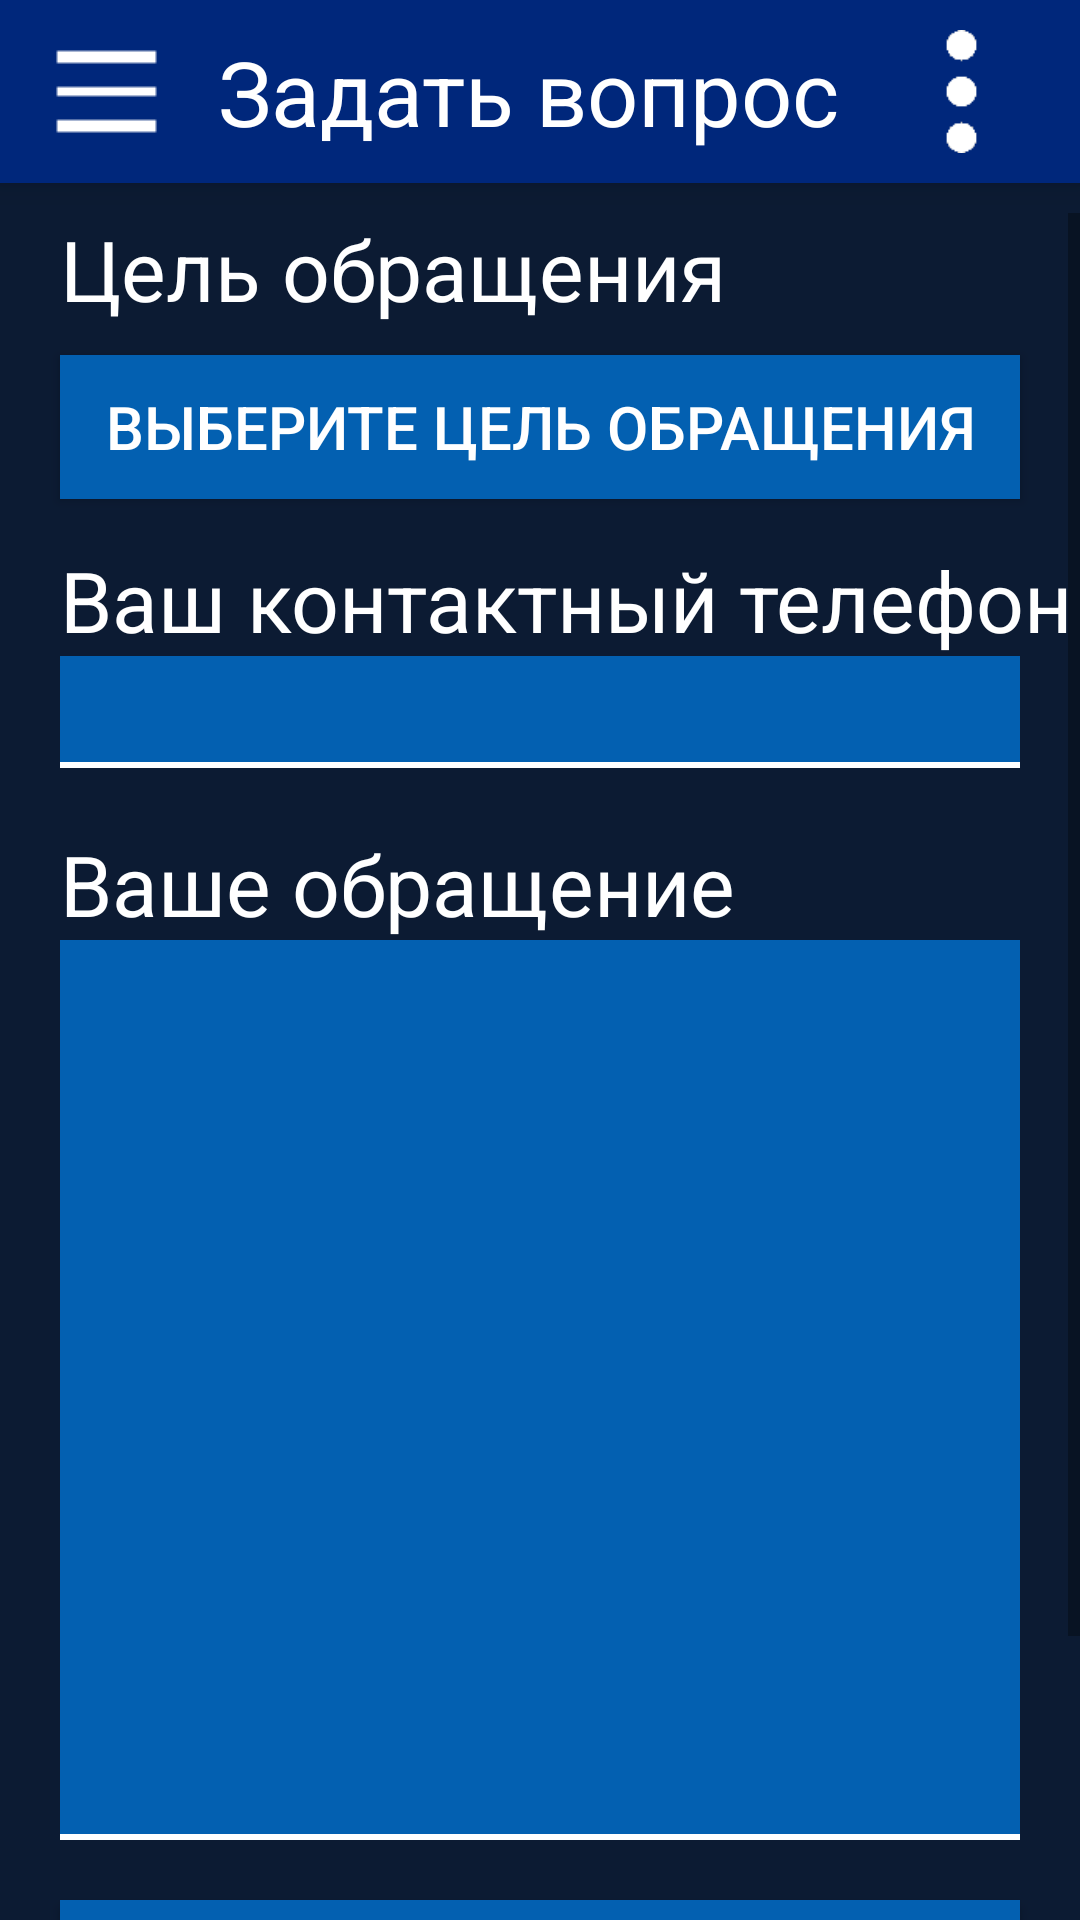

Named icons in this screenshot (1080x1920) and their bounding boxes, (x1, y1, x2, y2):
leftmenuicon: (56, 50, 157, 133)
